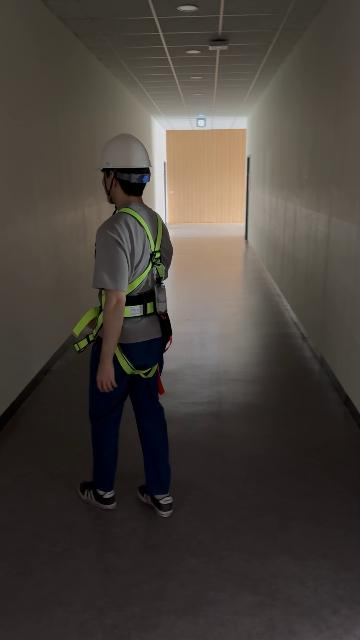helmet_worn: (96, 132, 153, 171)
shoe_not_worn: (77, 478, 115, 509), (138, 483, 173, 516)
vest_worn: (109, 213, 173, 357)
